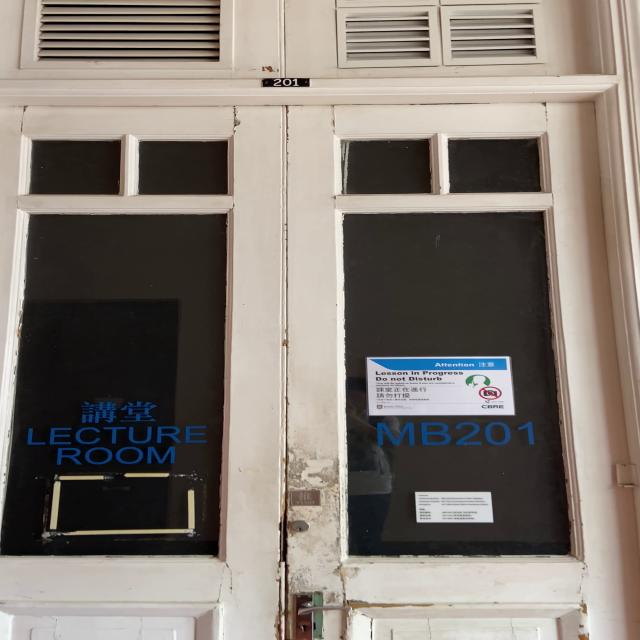room201: (252, 75, 313, 93)
room201Window: (369, 422, 542, 452)
